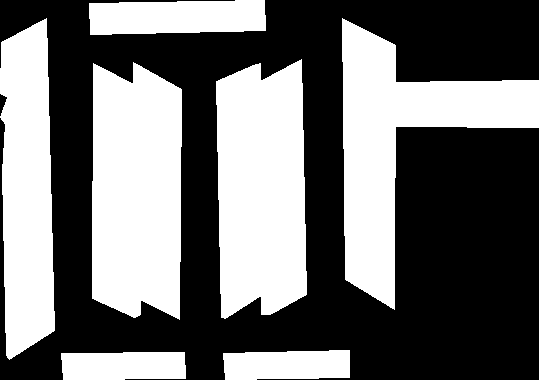parkingspot: (0, 18, 54, 359), (342, 18, 395, 309), (256, 59, 306, 314), (133, 62, 181, 319), (216, 63, 264, 318), (92, 63, 140, 317), (393, 80, 539, 127), (89, 0, 265, 34), (223, 350, 349, 379), (61, 352, 185, 379)
